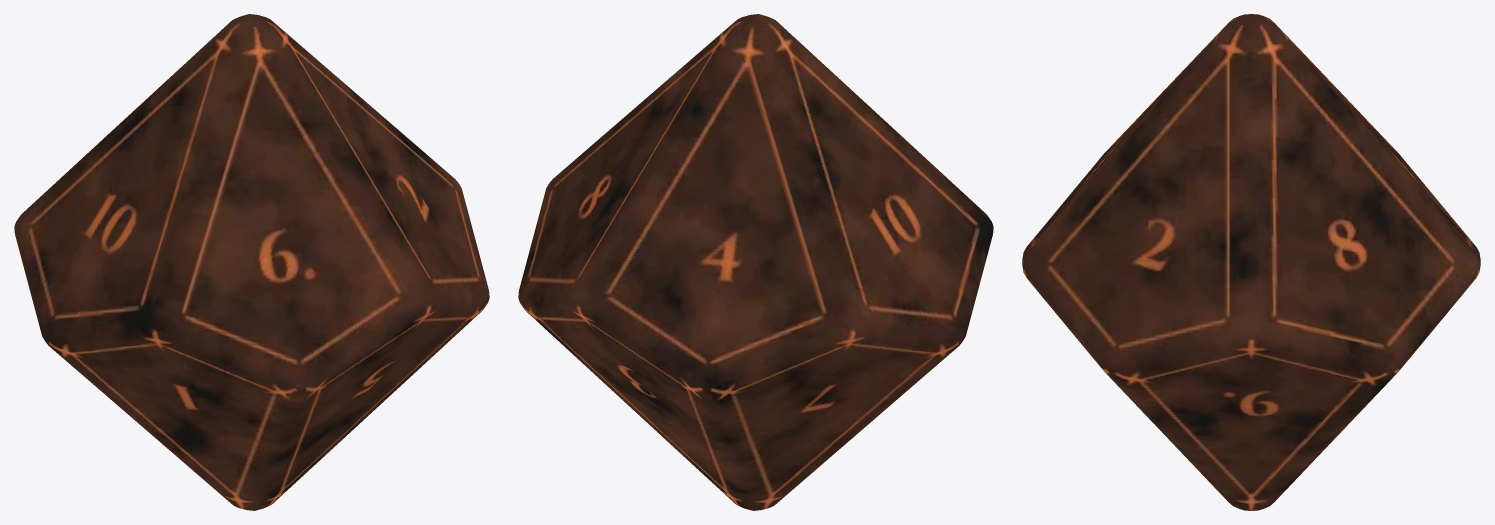
File: daedric-d10.glb
3 renders of one model, left to right at view 1: azimuth 30°, elevation 25°; view 2: azimuth 150°, elevation 25°; view 3: azimuth 270°, elevation 25°, orthographic.
Parts seen in each view (by area): view 1: daedric_d10; view 2: daedric_d10; view 3: daedric_d10.
Part boxes in pixels (bbox=[...]): daedric_d10: bbox=[14, 14, 489, 510]; daedric_d10: bbox=[518, 14, 993, 510]; daedric_d10: bbox=[1022, 14, 1480, 510].
Bounding box in the file's own units: 1.66 × 1.91 × 1.59.
1 material, 1 textured.
